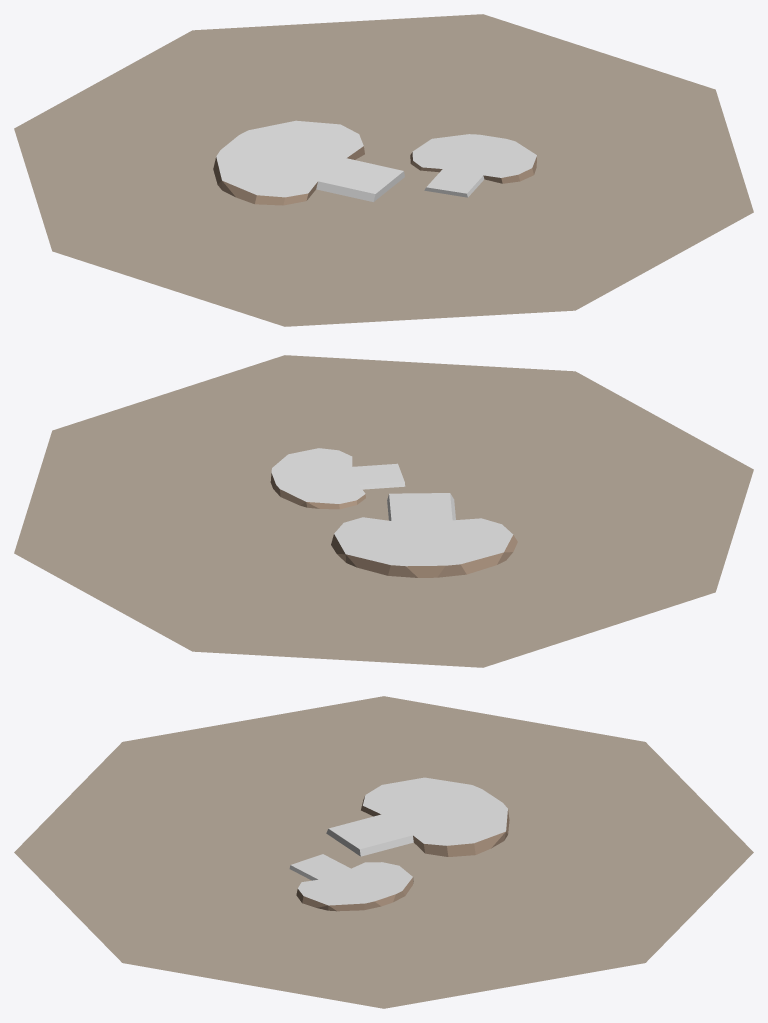
The model's file is SM_MashroomsSoup.fbx.
3 renders of one model, top to bottom at view 1: azimuth 30°, elevation 25°; view 2: azimuth 150°, elevation 25°; view 3: azimuth 270°, elevation 25°, orthographic. The views are drawn at different scales.
Visible parts, largest first — view 1: Cylinder; view 2: Cylinder; view 3: Cylinder.
Part boxes in pixels (<box>): Cylinder: <box>14,14,753,326</box>; Cylinder: <box>14,355,753,667</box>; Cylinder: <box>14,696,753,1008</box>.
Size of the model in its own units: 58.94 by 4.26 by 58.94.
